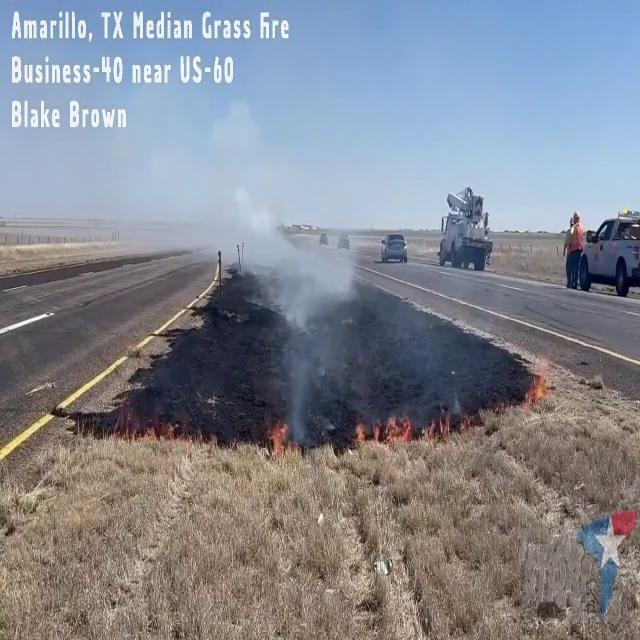Fire: (264, 414, 294, 476)
Smoke: (266, 228, 358, 392)
